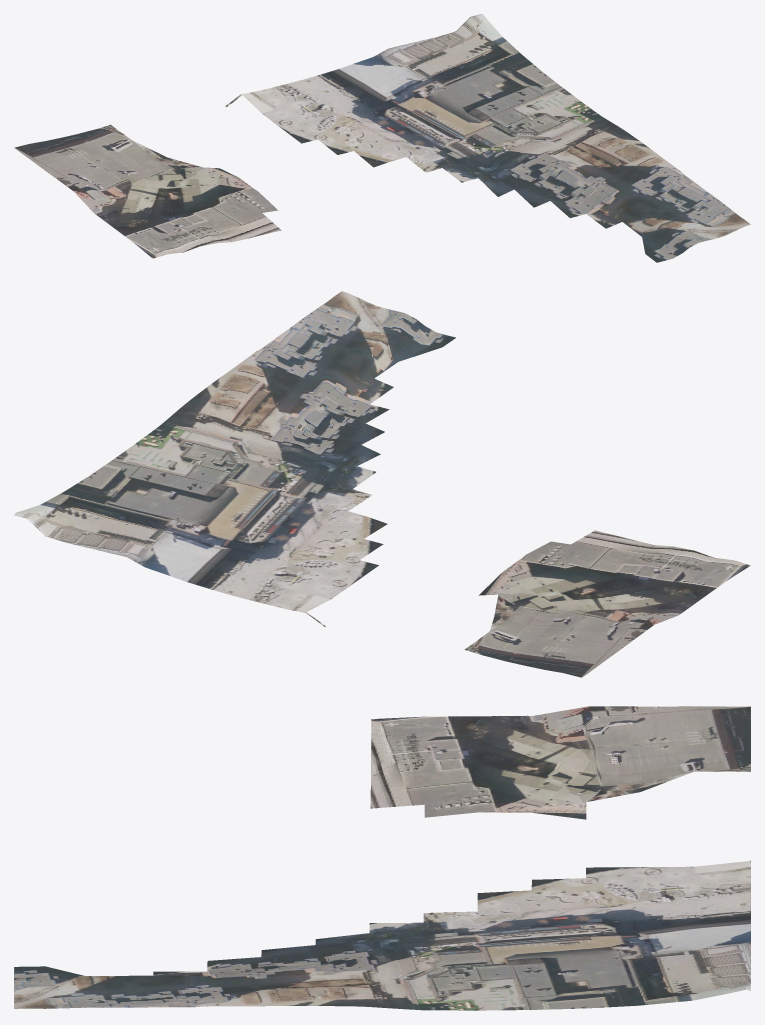
Rendered from CM_Terrain_24487387_6820613.fbx.
3 views of the same model, one above another, from view 1: azimuth 30°, elevation 25°; view 2: azimuth 150°, elevation 25°; view 3: azimuth 270°, elevation 25° (orthographic). The views are drawn at different scales.
Parts seen in each view (by area): view 1: CM_Terrain_24487387_6820613_LOD0; view 2: CM_Terrain_24487387_6820613_LOD0; view 3: CM_Terrain_24487387_6820613_LOD0.
Part boxes in pixels (bbox=[...]): CM_Terrain_24487387_6820613_LOD0: bbox=[14, 14, 750, 262]; CM_Terrain_24487387_6820613_LOD0: bbox=[14, 291, 750, 677]; CM_Terrain_24487387_6820613_LOD0: bbox=[14, 706, 750, 1010].
Size of what is drawn, in the model's own units: 205 by 13.76 by 205.
